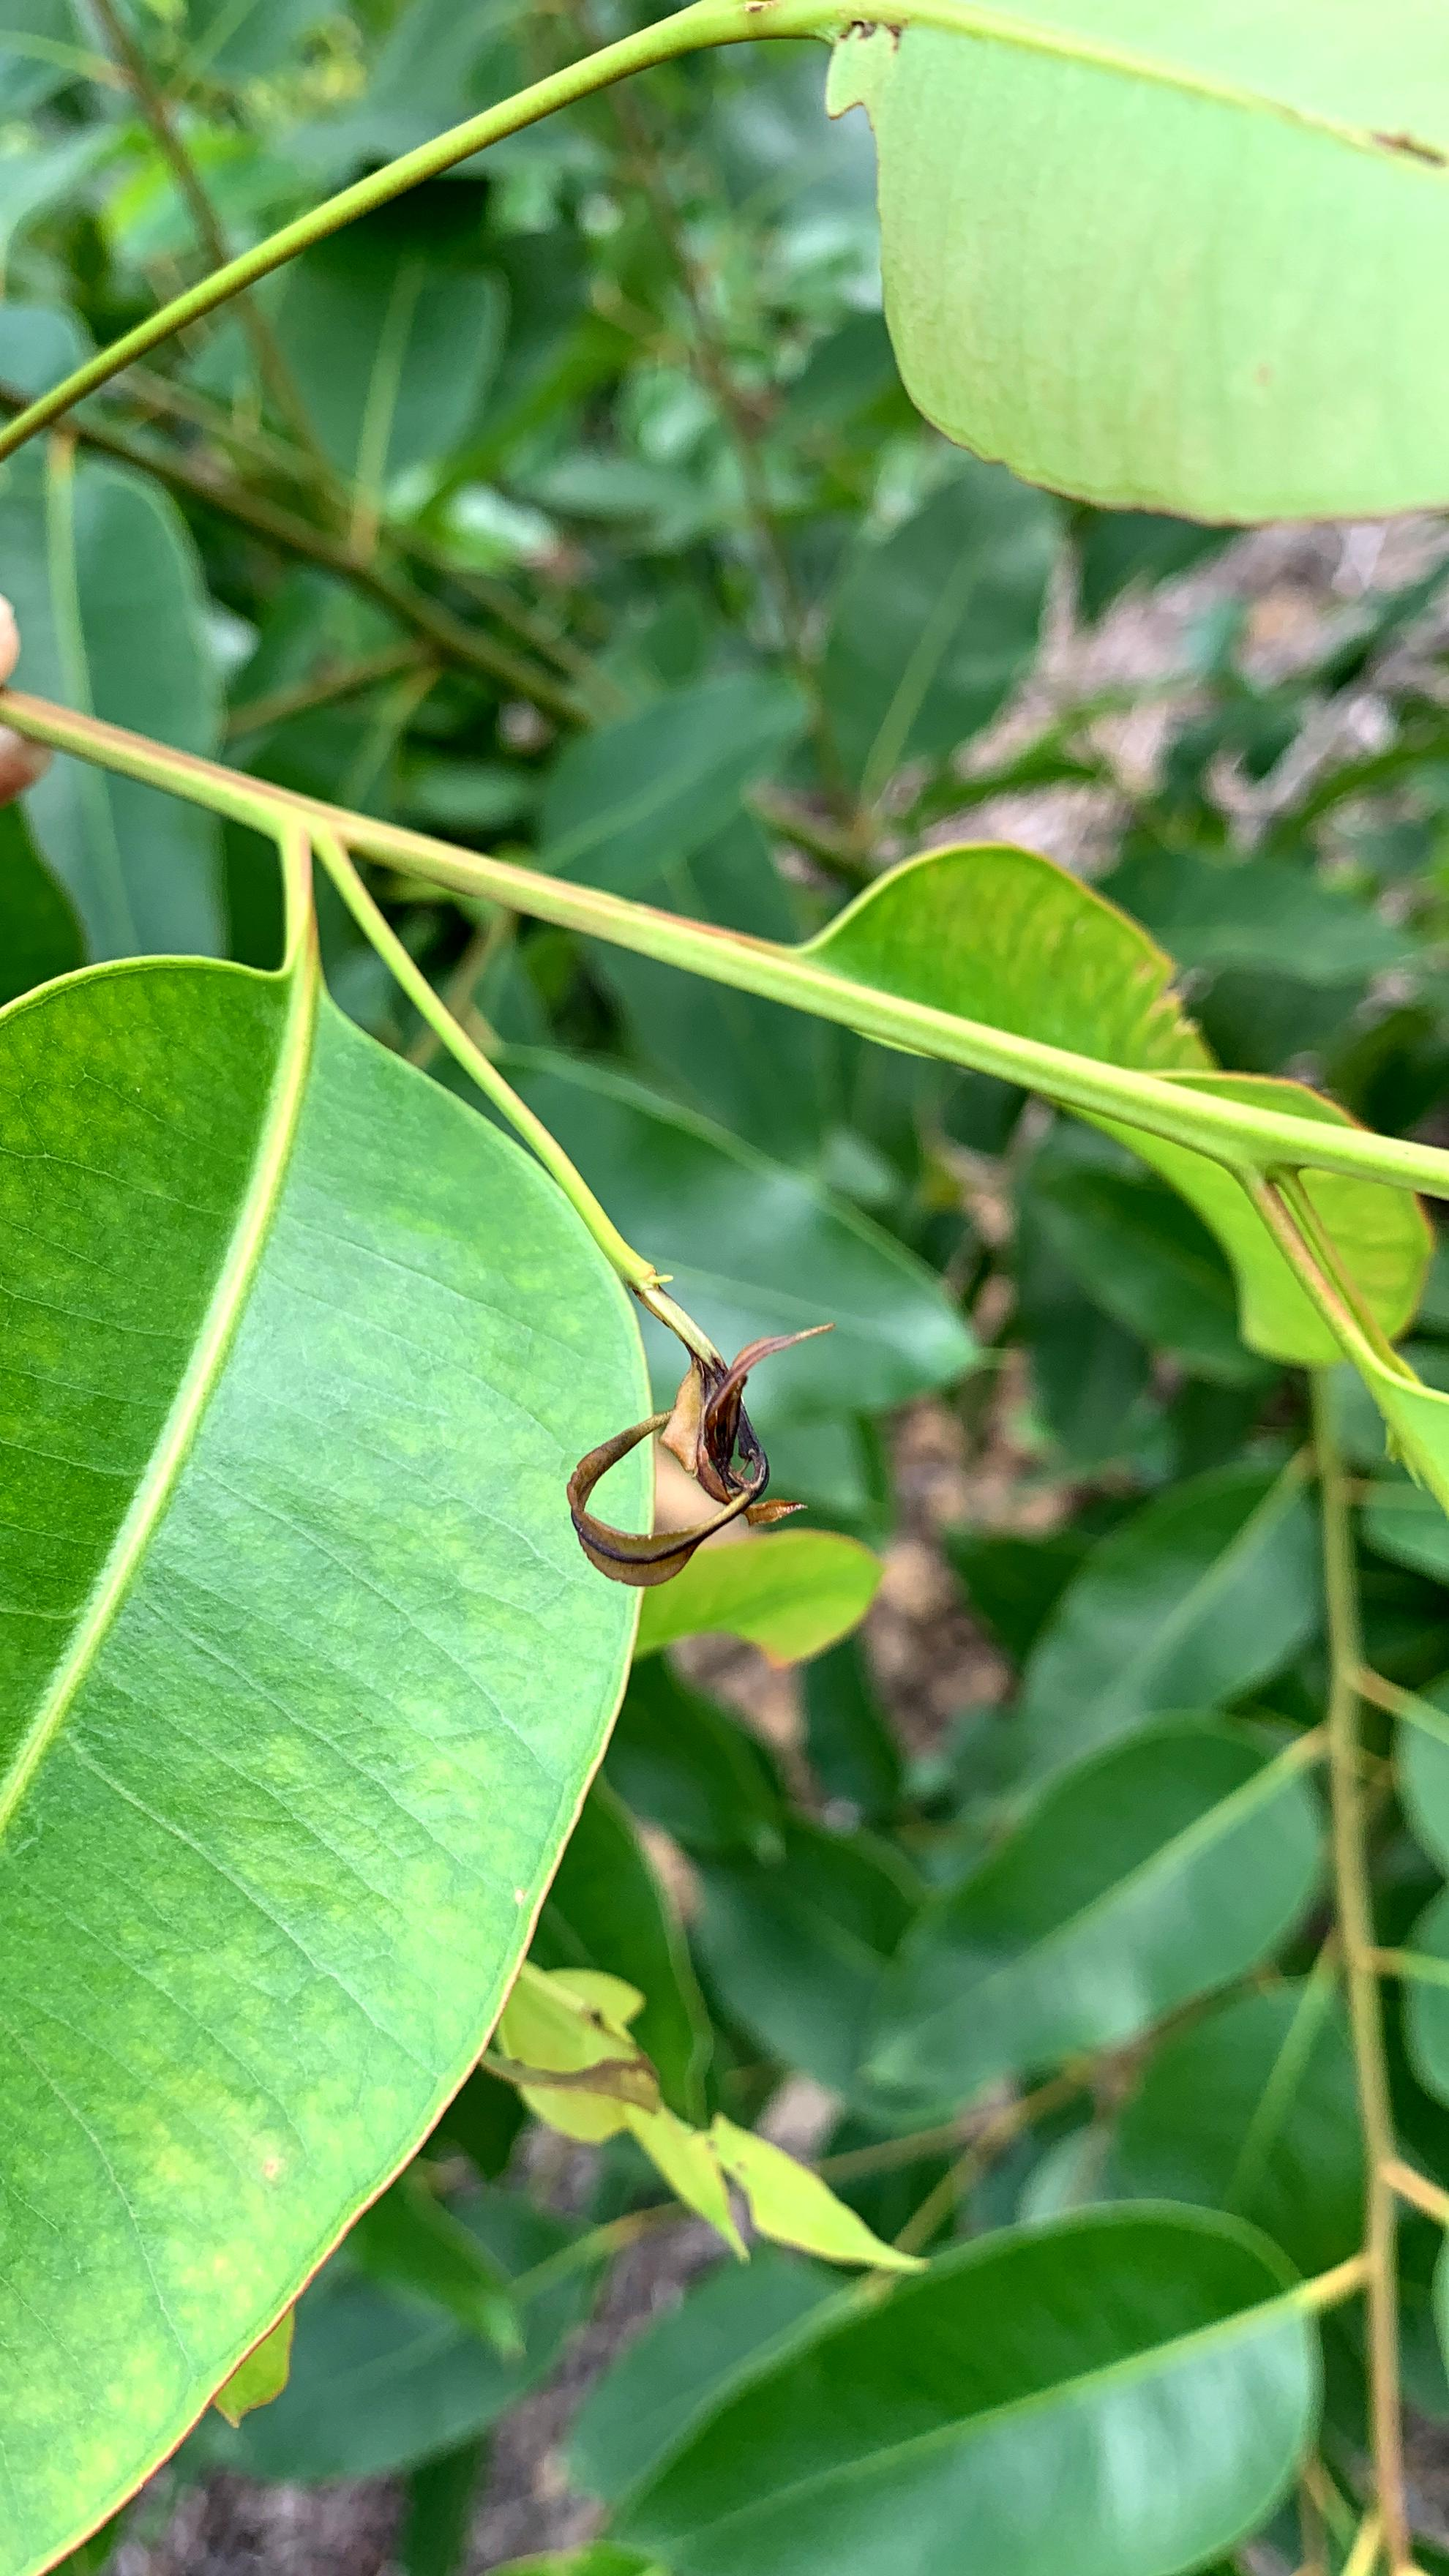Helopeltis-Withered Sprout: (529, 1260, 828, 1652)
